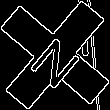N_NE: (23, 22, 87, 88)
